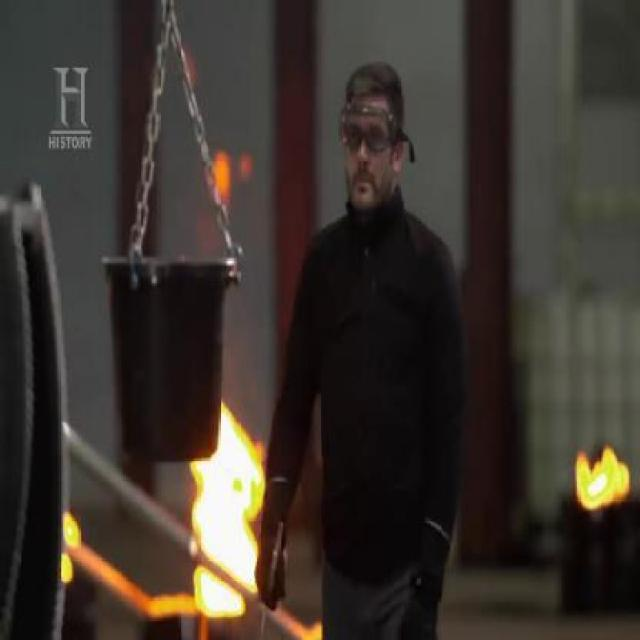Fire: (186, 388, 268, 616), (572, 437, 631, 511)
